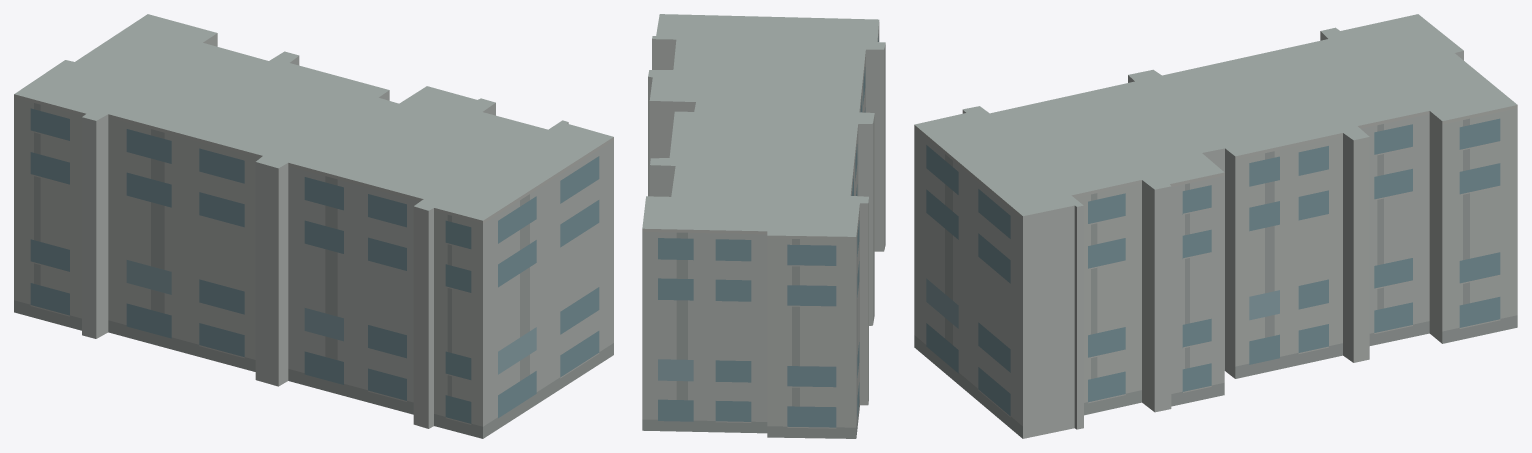
Rendered from survey-upis-32835617.glb.
3 views of the same model, side by side, from view 1: azimuth 30°, elevation 25°; view 2: azimuth 150°, elevation 25°; view 3: azimuth 270°, elevation 25° (orthographic). The views are drawn at different scales.
Parts seen in each view (by area): view 1: survey-upis-32835617.tmp; view 2: survey-upis-32835617.tmp; view 3: survey-upis-32835617.tmp.
Part boxes in pixels (x1=…): survey-upis-32835617.tmp: x1=14, y1=14, x2=613, y2=438; survey-upis-32835617.tmp: x1=642, y1=14, x2=885, y2=438; survey-upis-32835617.tmp: x1=914, y1=14, x2=1517, y2=438.
Size of the model in its own units: 31.17 by 16 by 39.3.
